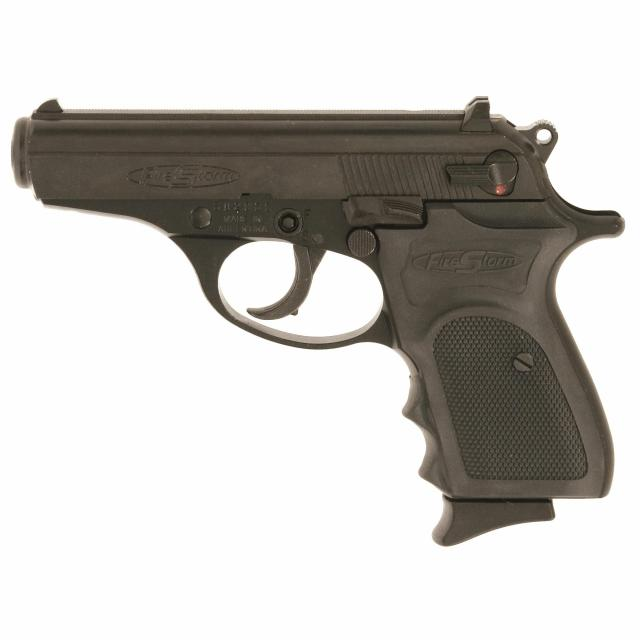gun: (10, 92, 629, 550)
